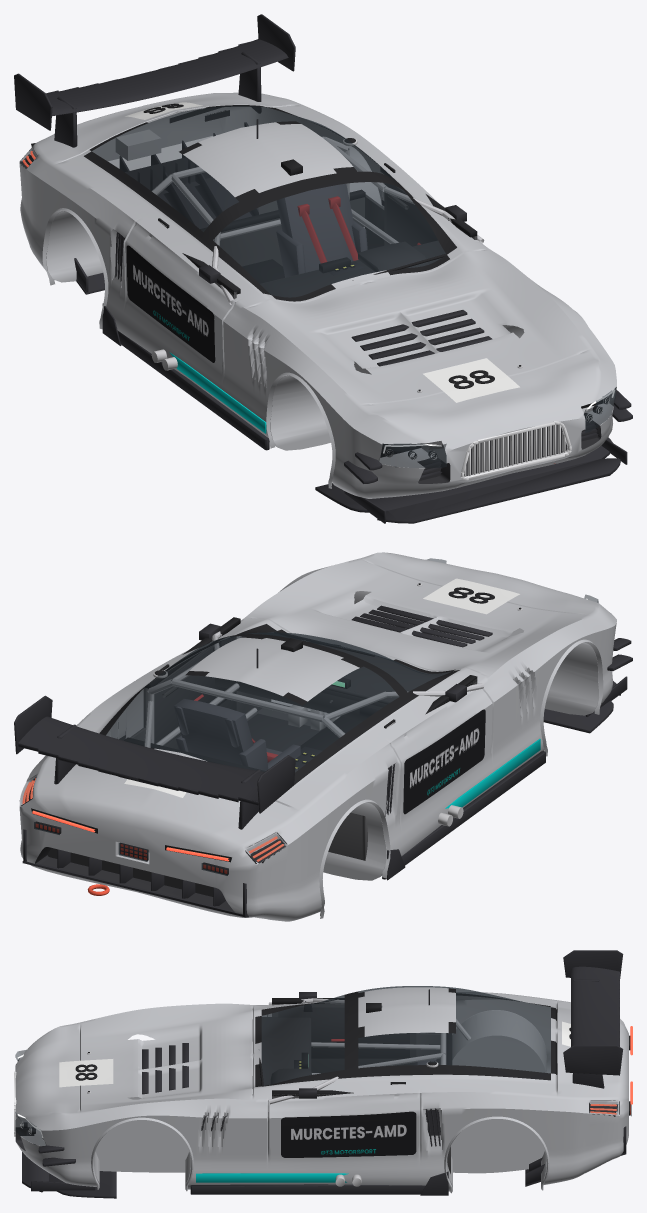
Rendered from murcetes_amd_gt3.glb.
3 renders of one model, top to bottom at view 1: azimuth 30°, elevation 25°; view 2: azimuth 150°, elevation 25°; view 3: azimuth 270°, elevation 25°, orthographic. The views are drawn at different scales.
Parts seen in each view (by area): view 1: murcetes_amd_gt3; view 2: murcetes_amd_gt3; view 3: murcetes_amd_gt3.
Part boxes in pixels (<box>): murcetes_amd_gt3: <box>14,14,632,523</box>; murcetes_amd_gt3: <box>14,552,632,921</box>; murcetes_amd_gt3: <box>14,950,632,1198</box>.
Bounding box in the file's own units: 2.12 × 1.33 × 4.8.
Materials: 25 (1 with a texture image).
